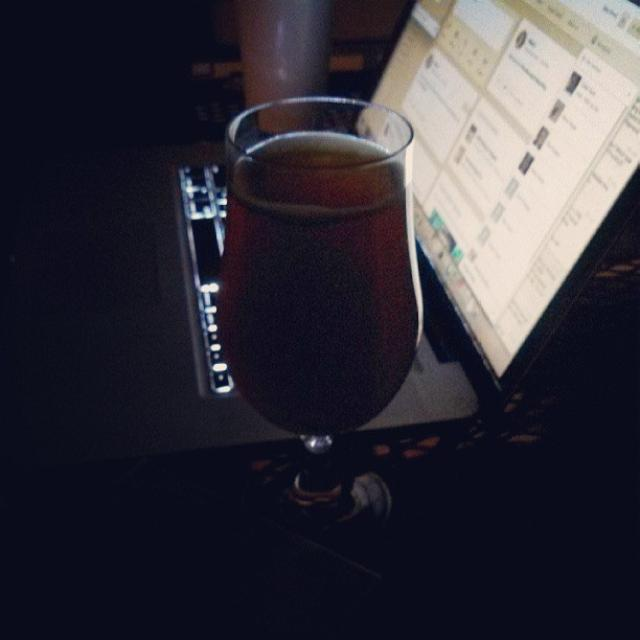Cup: (174, 105, 435, 543)
